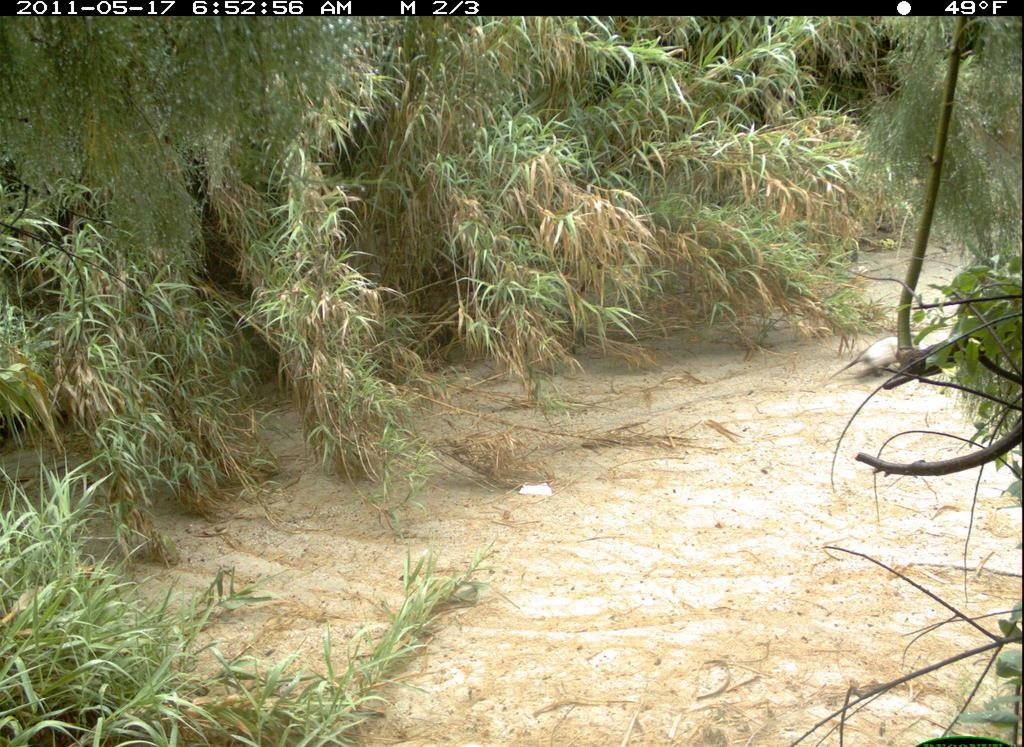opossum: (817, 324, 946, 390)
